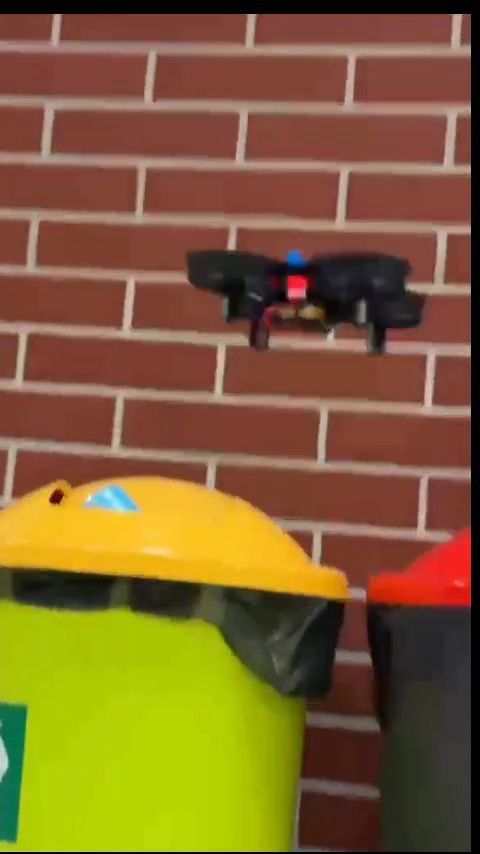drone: (184, 243, 426, 358)
